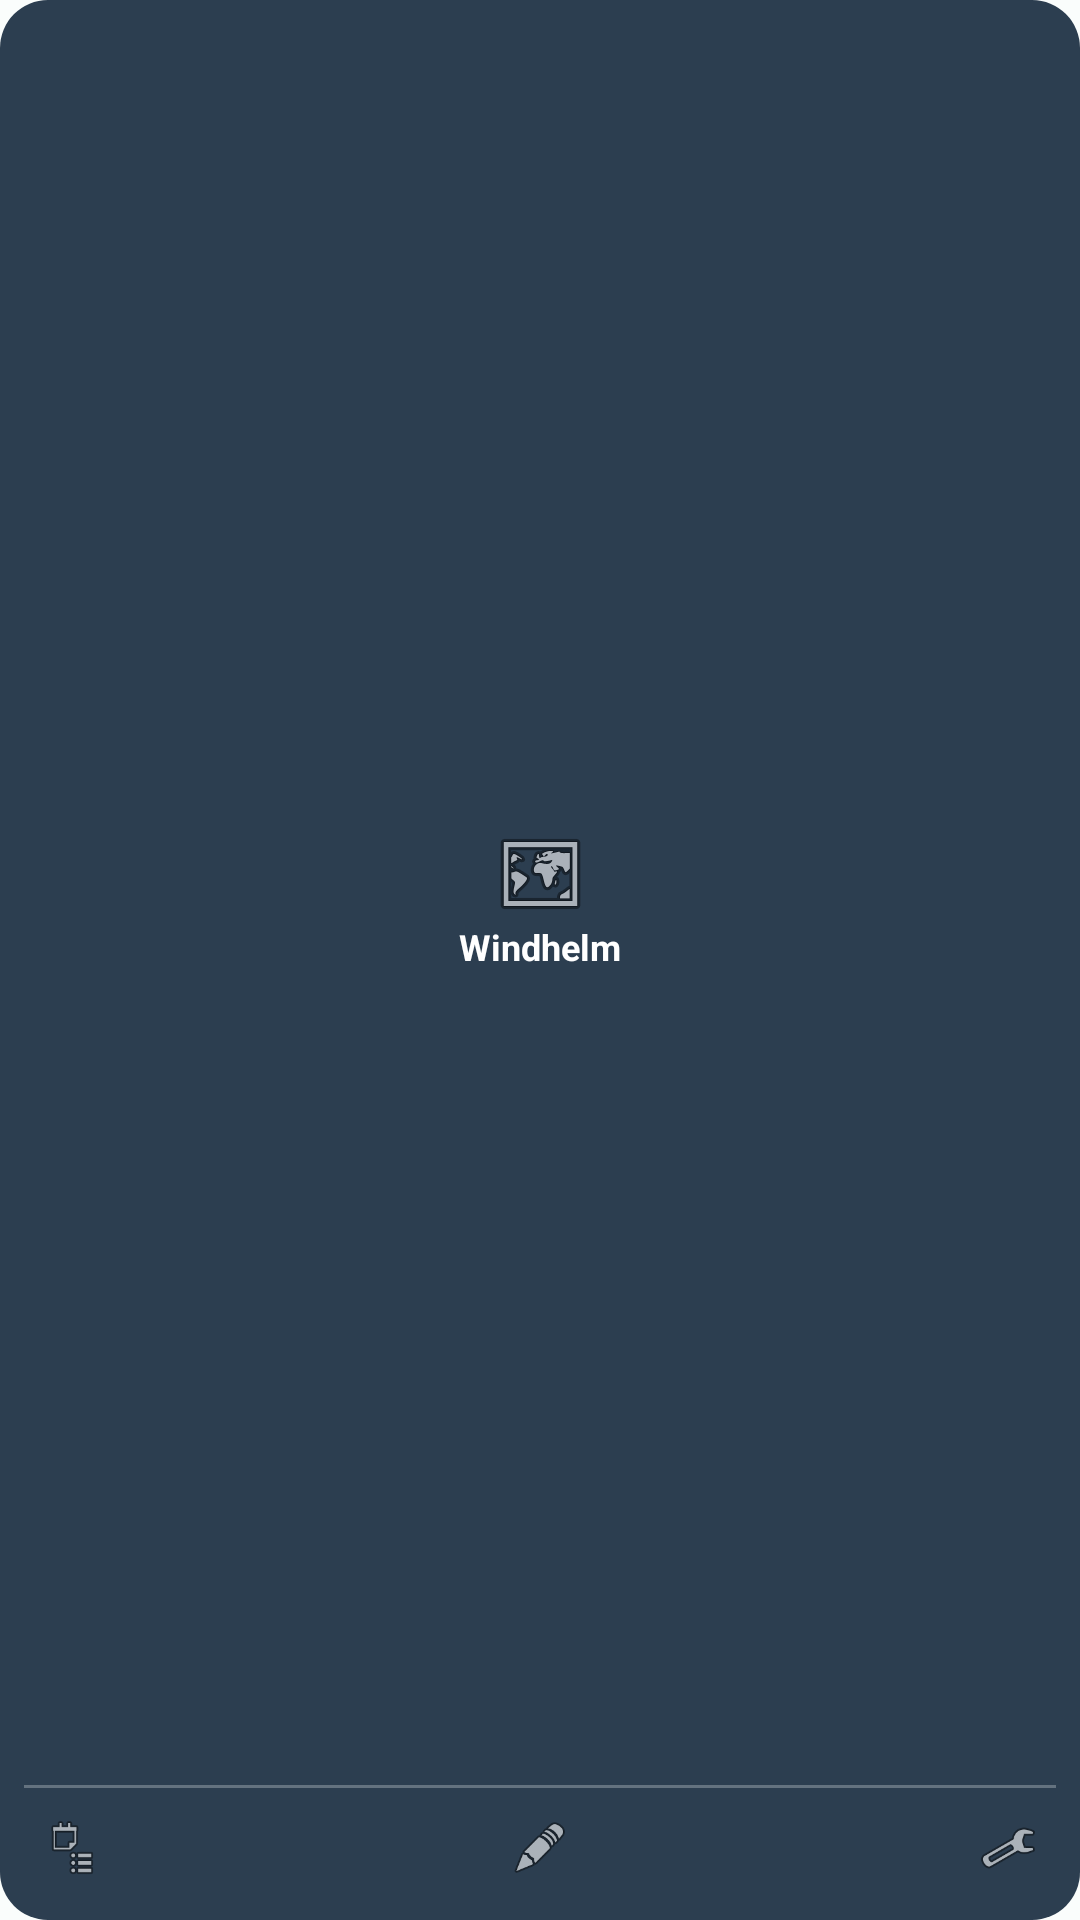

Locate icon controls on the screen. Image size 1080*1920, boxes as (x1, y1, x2, y2).
Notes: (515, 1823, 565, 1872)
Settings: (981, 1828, 1035, 1868)
